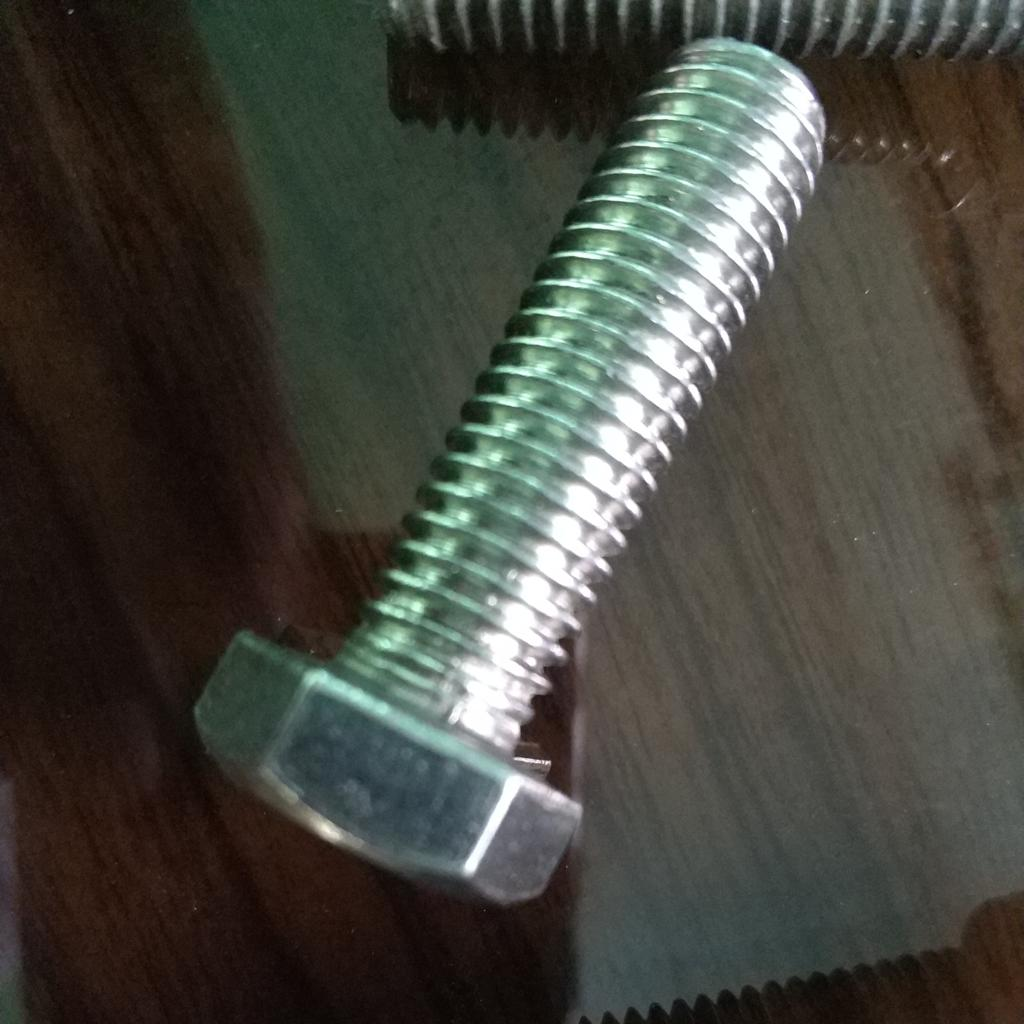screwtype2silver: (185, 36, 829, 915)
